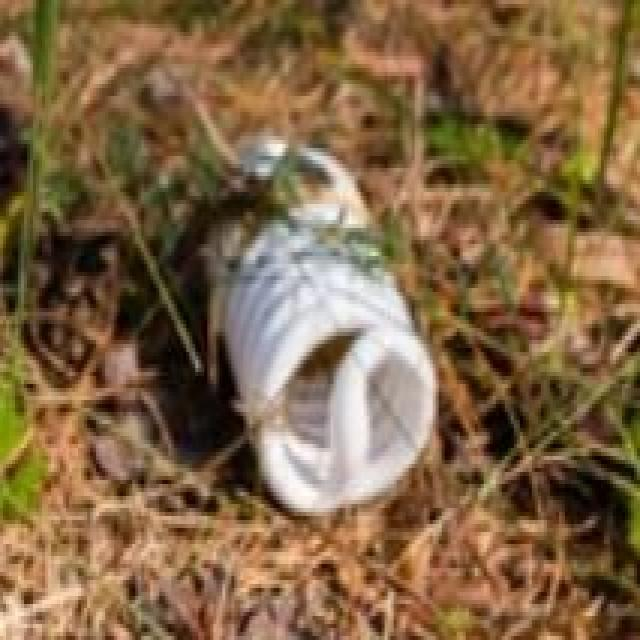electronic: (198, 128, 439, 516)
